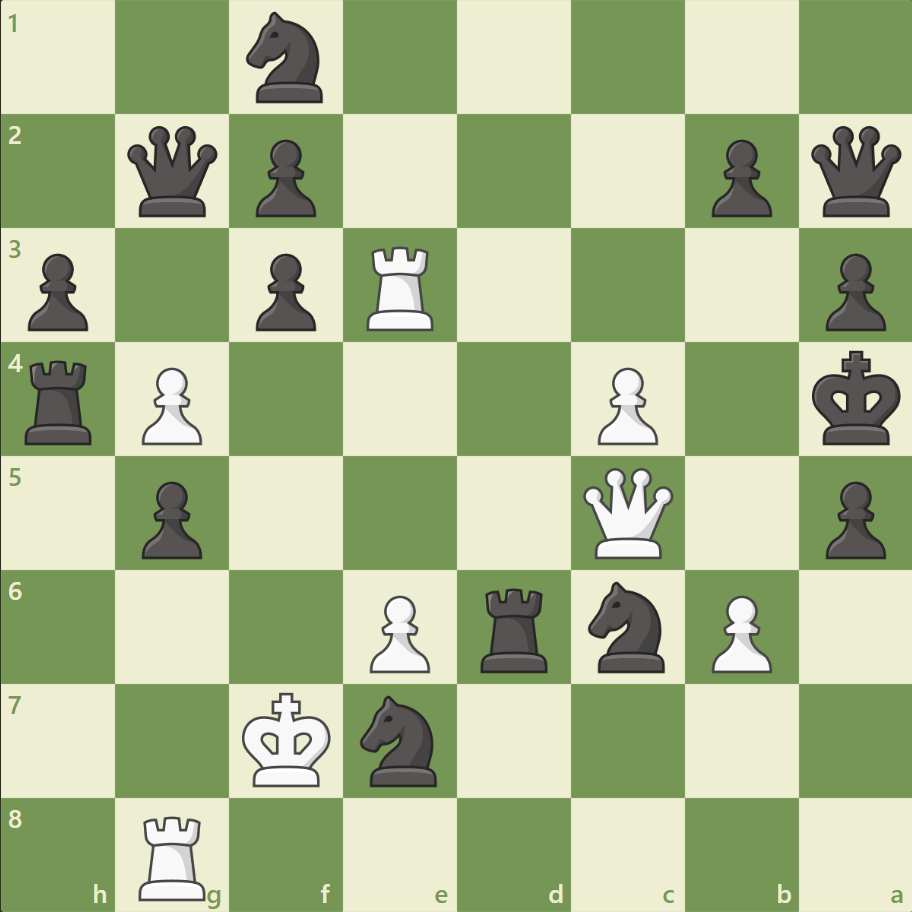K: (238, 685, 338, 793)
P: (701, 586, 776, 677), (133, 359, 208, 450), (361, 586, 435, 677), (588, 359, 662, 450)
Q: (578, 463, 677, 562)
R: (133, 806, 215, 904), (360, 239, 442, 336)
k: (806, 344, 906, 452)
n: (351, 688, 449, 791), (238, 7, 335, 110), (579, 575, 676, 677)
p: (133, 473, 208, 564), (247, 246, 322, 337), (20, 246, 95, 337), (701, 132, 776, 223), (247, 132, 322, 223), (815, 473, 889, 564), (815, 246, 889, 337)
q: (805, 122, 904, 222), (124, 122, 223, 222)
r: (473, 579, 556, 676), (19, 352, 102, 449)
